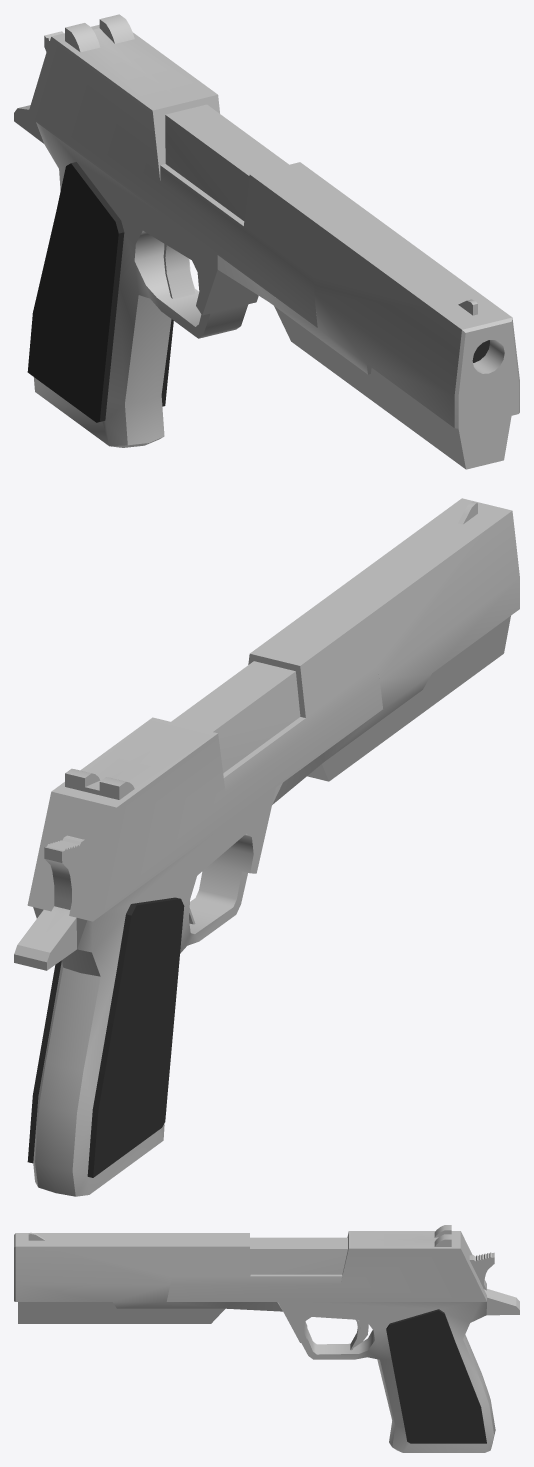
Rendered from jaldabaoth_gun.FBX.
3 renders of one model, top to bottom at view 1: azimuth 30°, elevation 25°; view 2: azimuth 150°, elevation 25°; view 3: azimuth 270°, elevation 25°, orthographic. The views are drawn at different scales.
Visible parts, largest first — view 1: Gun, Slide; view 2: Gun, Slide; view 3: Gun, Slide.
Boxes of the visible parts, x1,y1,x2,y2 form: Gun: (14,31,519,469); Slide: (27,14,317,327); Gun: (14,498,519,1196); Slide: (27,666,382,921); Gun: (14,1232,519,1452); Slide: (166,1225,486,1301).
Bounding box in the file's own units: 2.59 × 14.61 × 31.4.
Materials: 2 (2 with a texture image).
